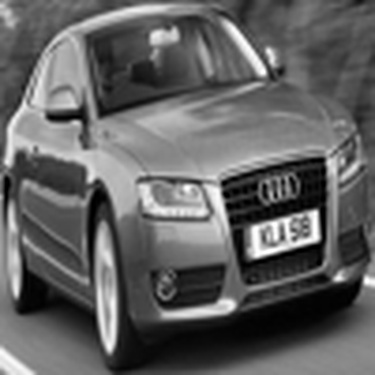car: (5, 3, 373, 370)
